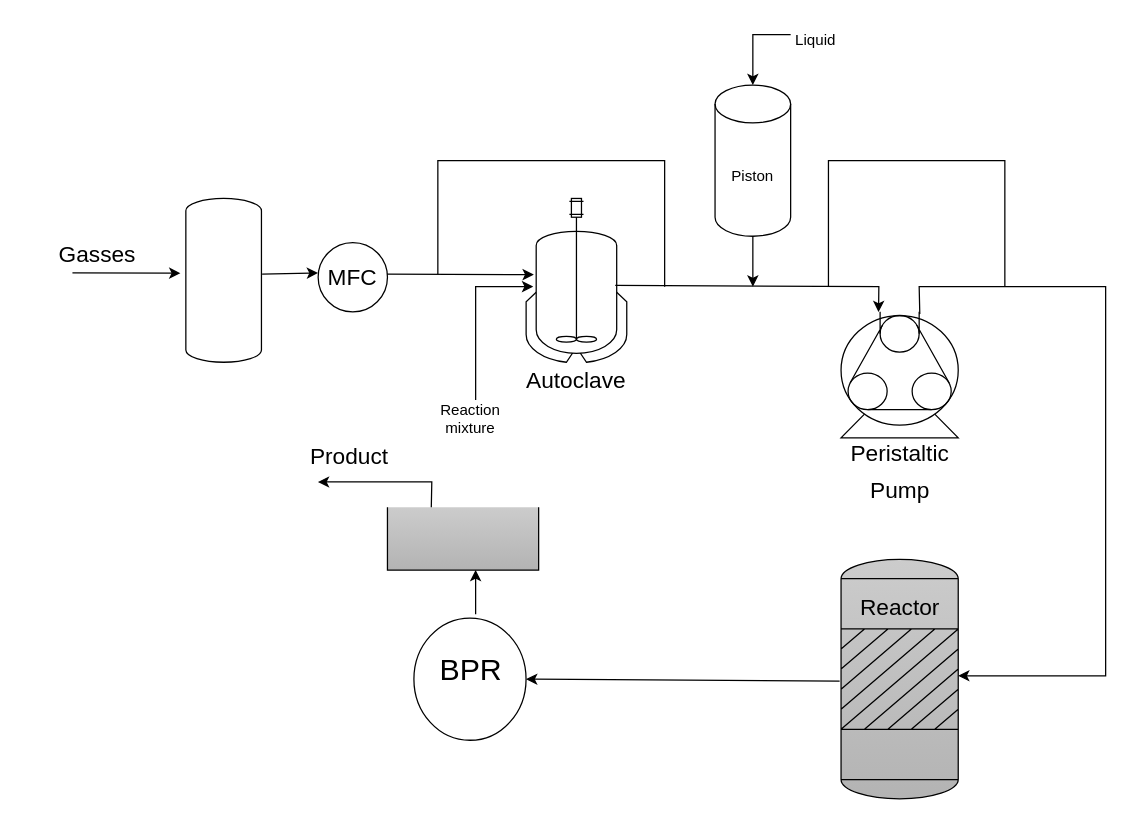
Some shapes in this 1138 by 820 pixel diagram are drawn without their labels. The shapes that lost their labels are listed below. From the top down, each one's centre as x and y in pixels, then its label:
the point at 223,279: Gas collecting vessel
the point at 462,538: Open air vessel
